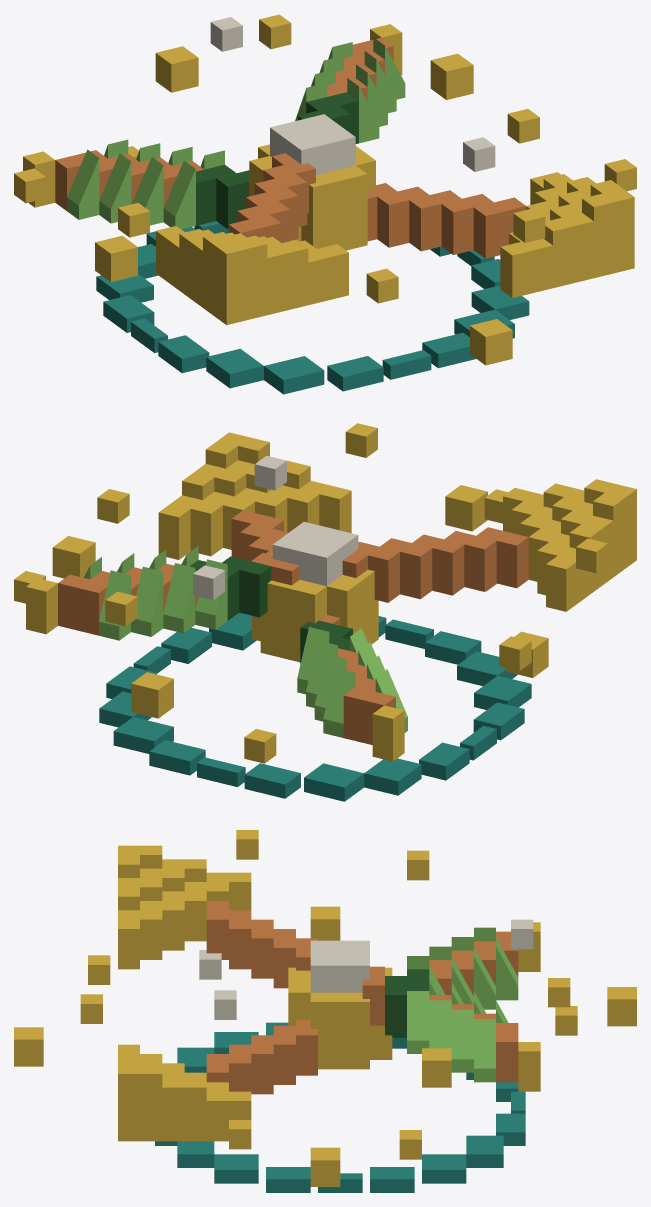
The model's file is fx_dualbows.glb.
3 renders of one model, top to bottom at view 1: azimuth 30°, elevation 25°; view 2: azimuth 150°, elevation 25°; view 3: azimuth 270°, elevation 25°, orthographic. The views are drawn at different scales.
Visible parts, largest first — view 1: arrow_left, arrow_right, teal_ring, motes, core; view 2: arrow_right, arrow_left, teal_ring, motes, core; view 3: arrow_right, arrow_left, motes, teal_ring, core.
Part boxes in pixels (<box>): arrow_left: <box>23,139,634,298</box>; arrow_right: <box>156,24,405,325</box>; teal_ring: <box>96,221,529,394</box>; motes: <box>14,14,636,365</box>; core: <box>249,114,375,250</box>; arrow_right: <box>26,479,636,640</box>; arrow_left: <box>158,432,407,761</box>; teal_ring: <box>99,612,531,801</box>; motes: <box>14,423,608,763</box>; core: <box>252,521,378,662</box>; arrow_right: <box>118,845,540,1091</box>; arrow_left: <box>118,922,540,1141</box>; motes: <box>14,830,636,1186</box>; teal_ring: <box>155,1022,525,1192</box>; core: <box>288,940,392,1069</box>.
Size of the model in its own units: 9.5 by 3.62 by 10.5.
